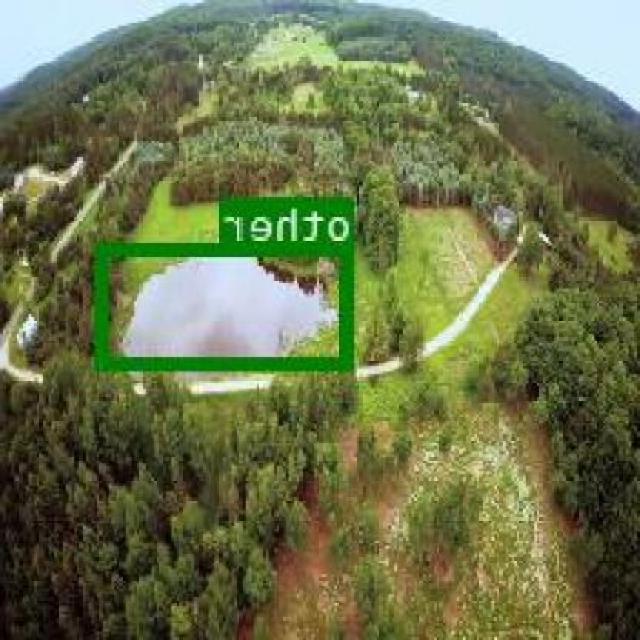other: (98, 240, 356, 368)
